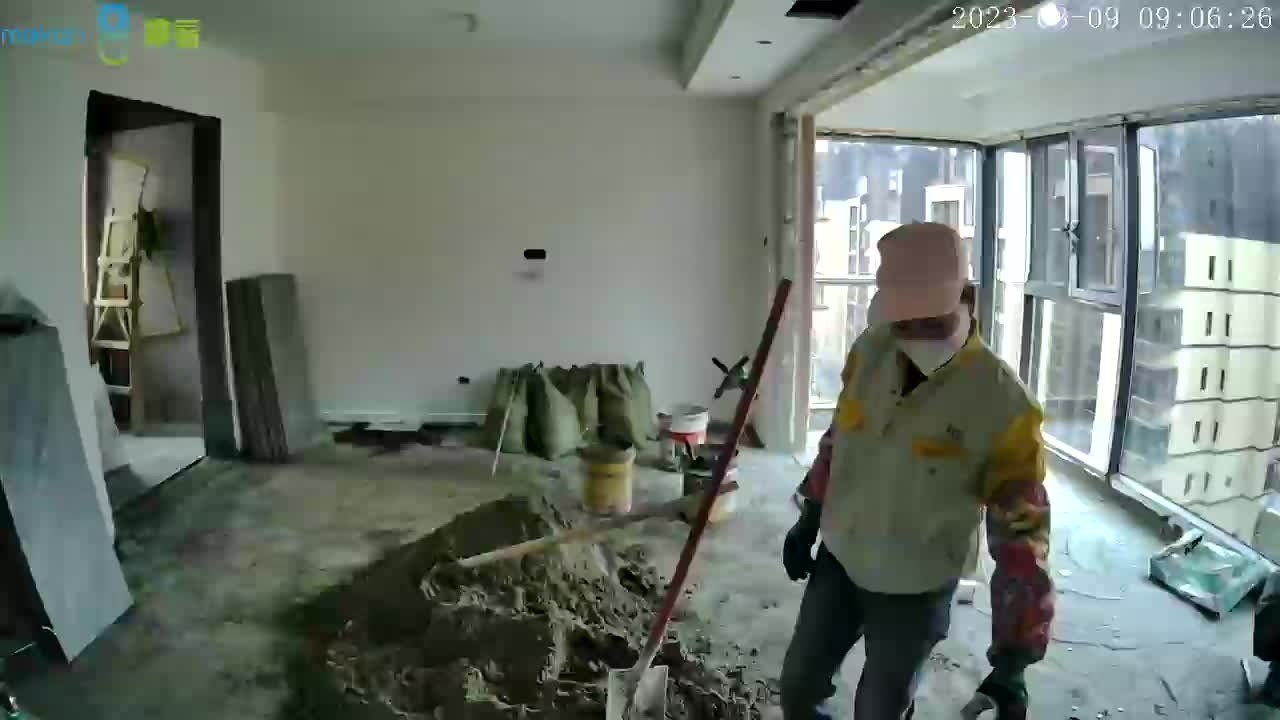people: (781, 225, 1058, 720)
window: (820, 109, 1278, 560)
